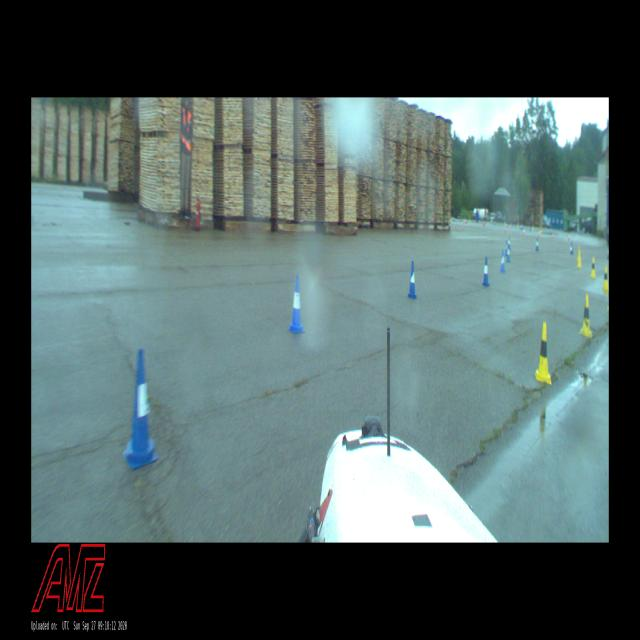blue_cone: (122, 349, 158, 469), (288, 275, 305, 334), (407, 260, 417, 299), (482, 257, 489, 286), (500, 250, 506, 273), (507, 246, 510, 264), (570, 242, 573, 254), (536, 238, 538, 250)
yellow_cone: (535, 322, 552, 384), (580, 294, 592, 338), (602, 265, 608, 292), (590, 256, 596, 279), (578, 251, 582, 268)
